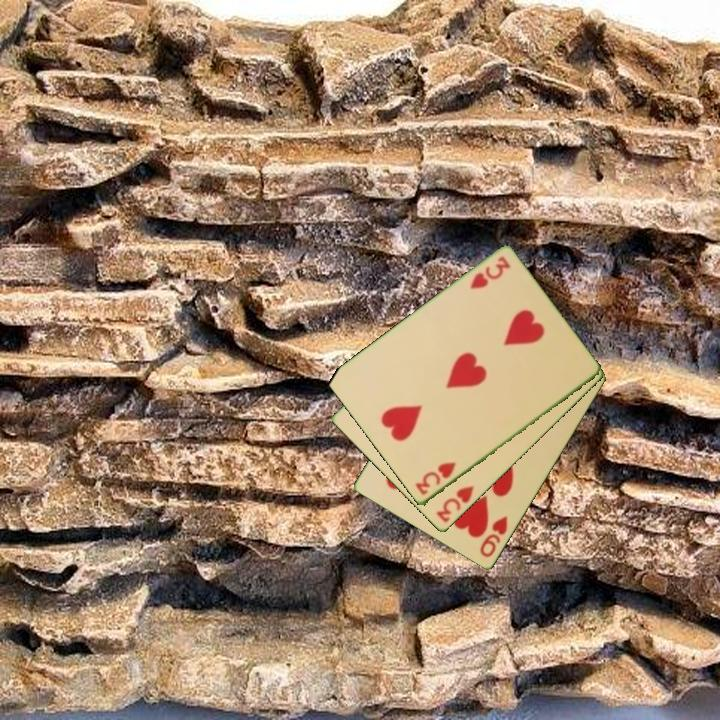3h: (432, 482, 477, 526), (466, 253, 513, 293), (411, 459, 459, 498)
9h: (476, 513, 511, 561)
